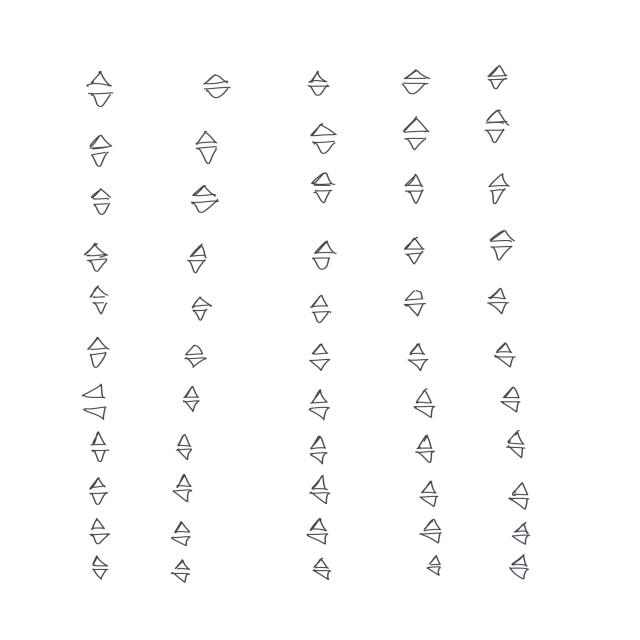IncDec: (68, 61, 126, 117), (180, 126, 242, 173), (178, 291, 236, 332), (290, 289, 347, 329), (300, 168, 353, 209), (74, 328, 124, 371), (290, 337, 346, 375), (190, 64, 238, 108), (394, 56, 441, 100), (469, 164, 513, 211), (477, 103, 520, 149), (73, 135, 122, 175), (470, 336, 526, 369), (394, 109, 435, 154), (73, 380, 114, 425), (79, 282, 123, 321), (394, 165, 430, 210), (473, 279, 509, 323), (292, 432, 335, 468), (174, 243, 218, 277), (299, 239, 345, 271), (406, 382, 442, 422), (183, 182, 224, 217), (300, 474, 342, 508), (488, 220, 519, 266), (473, 58, 509, 96), (302, 124, 342, 158), (299, 64, 338, 98), (296, 388, 335, 422), (404, 434, 445, 466), (157, 556, 202, 584), (492, 377, 526, 414), (396, 344, 440, 372), (392, 291, 439, 317), (302, 552, 342, 582), (408, 474, 440, 511), (503, 480, 540, 512), (497, 428, 535, 459), (80, 244, 119, 274), (75, 515, 120, 541), (397, 234, 431, 268), (164, 428, 199, 461), (410, 514, 447, 545), (504, 553, 540, 584), (178, 345, 215, 375), (86, 186, 118, 219), (80, 554, 120, 580), (171, 468, 198, 506), (83, 432, 115, 464), (301, 517, 334, 546), (83, 476, 113, 506), (414, 552, 451, 576), (508, 519, 534, 552), (170, 523, 202, 549), (181, 384, 202, 414)
